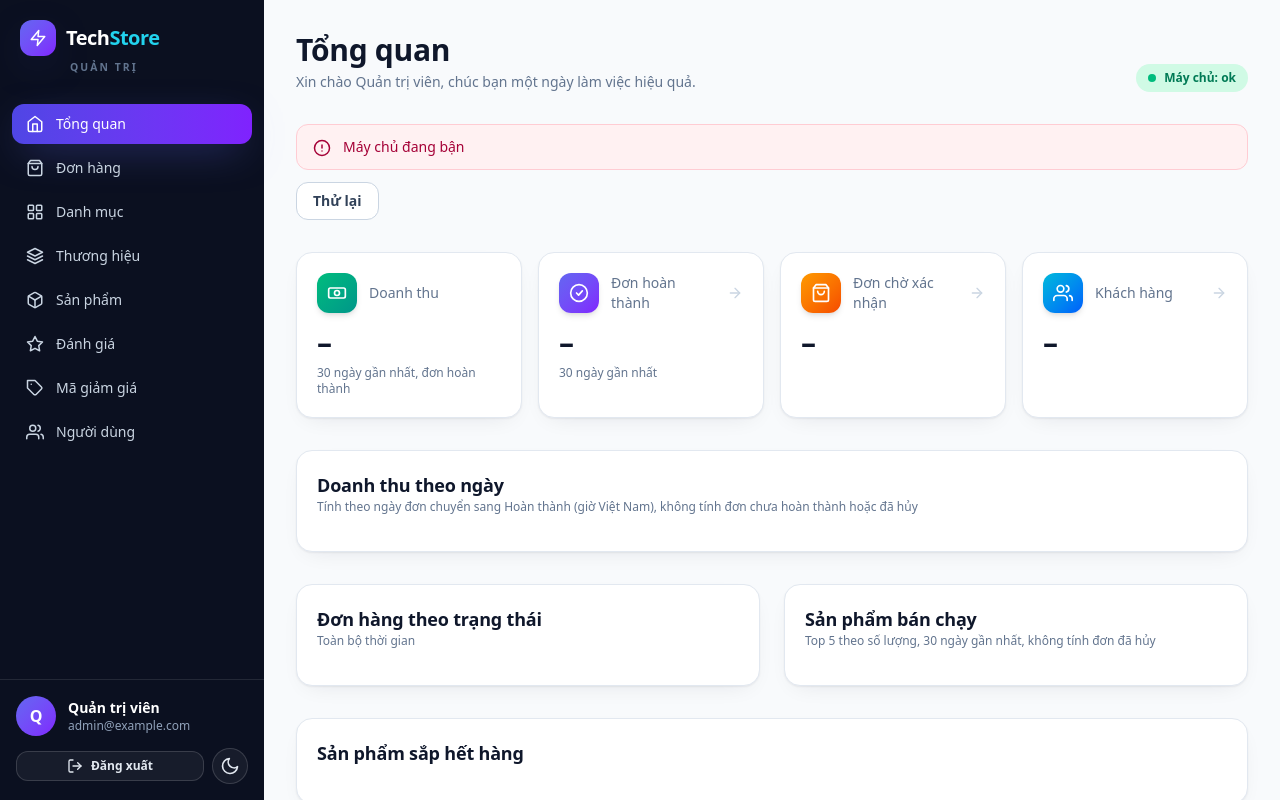
Test case: Thẻ số liệu kinh doanh › thống kê lỗi: báo lỗi, thẻ hiện dấu gạch, các số liệu danh mục vẫn hiện; bấm Thử lại thì tải lại
The image size is (1280, 800).
Expected: the text "Máy chủ đang bận" is shown, [343,137,464,157]
Expected: the text "–" below "Khách hàng" is shown, [1043,322,1058,363]
What coordinates should you click on to do the following:
click the button "Thử lại"
I would click on:
 (337, 201)
Its box is [296,182,379,220].
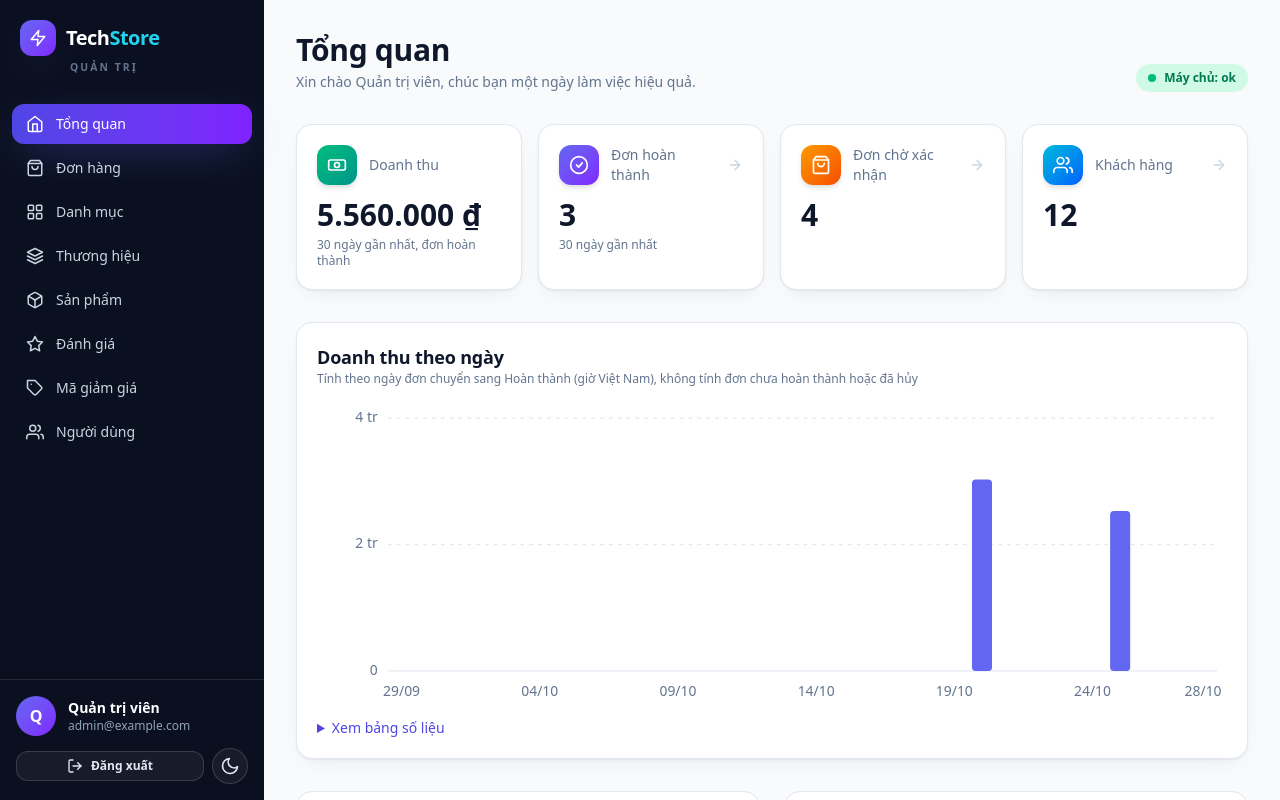
Expected: the text "5.560.000 ₫" is shown, [317,197,501,233]
Expected: the text "Máy chủ đang bận" is gone
